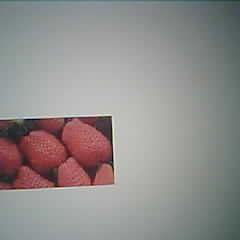straw-ripe: (64, 118, 110, 167), (21, 129, 66, 172)
